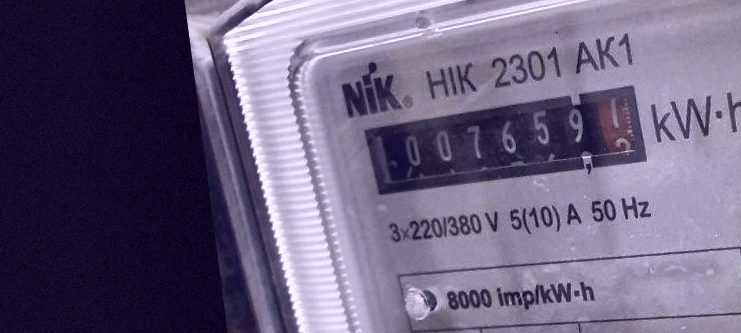0: (431, 124, 456, 167), (400, 130, 425, 171)
1: (601, 93, 625, 133)
5: (527, 107, 554, 149)
6: (494, 115, 521, 159)
7: (462, 120, 488, 162)
9: (563, 104, 589, 147)
screen: (353, 78, 654, 207)
